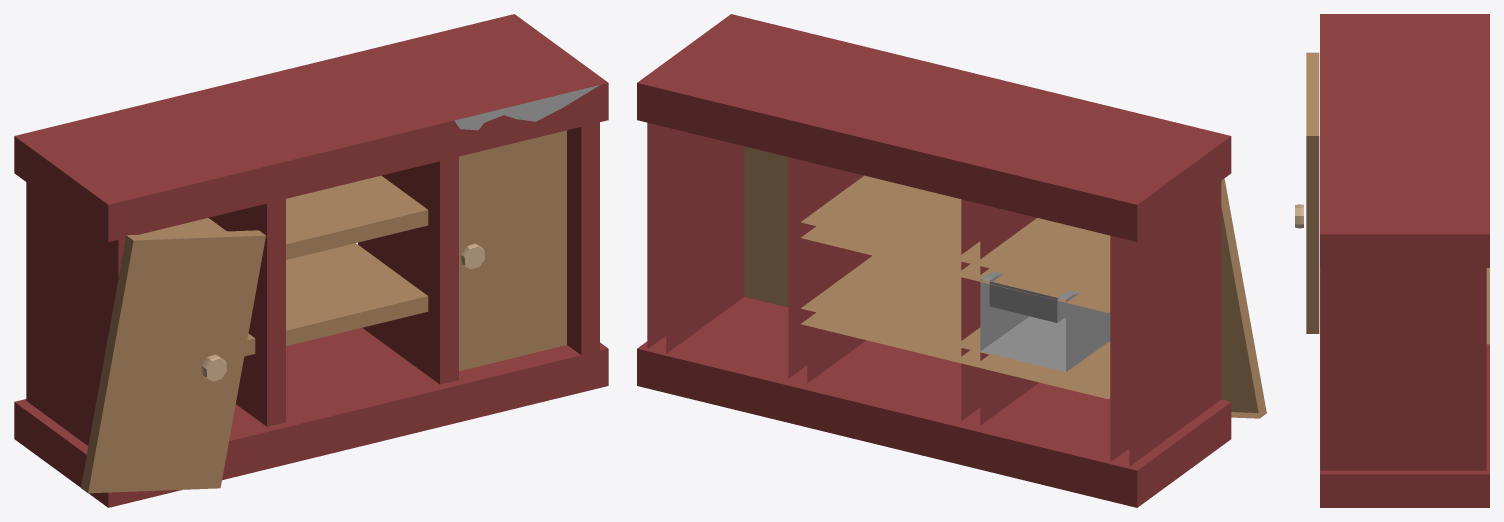
Rendered from MSH_QuestObject_cabinet_13.fbx.
3 views of the same model, side by side, from view 1: azimuth 30°, elevation 25°; view 2: azimuth 150°, elevation 25°; view 3: azimuth 270°, elevation 25° (orthographic). The views are drawn at different scales.
Visible parts, largest first — view 1: MSH_QuestObject_cabinet_13; view 2: MSH_QuestObject_cabinet_13; view 3: MSH_QuestObject_cabinet_13.
Boxes of the visible parts, x1,y1,x2,y2 form: MSH_QuestObject_cabinet_13: (14,14,608,507); MSH_QuestObject_cabinet_13: (637,14,1266,507); MSH_QuestObject_cabinet_13: (1295,14,1489,507).
Size of the model in its own units: 3.03 by 1.66 by 1.07.
